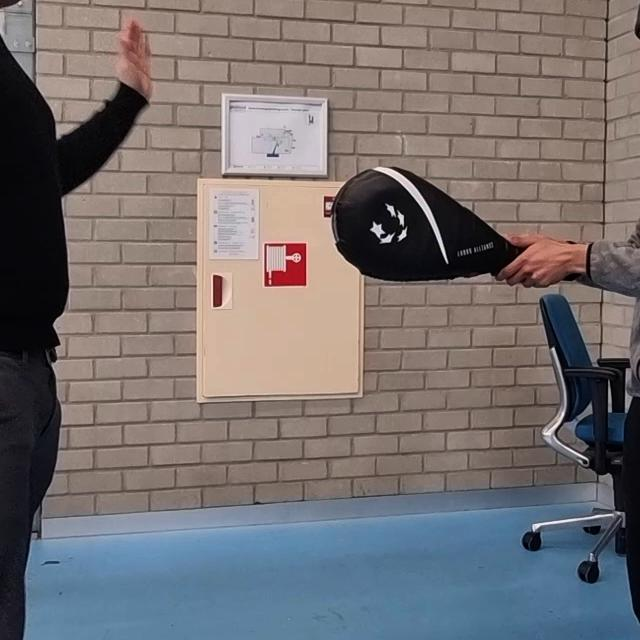paddle: (332, 167, 521, 282)
